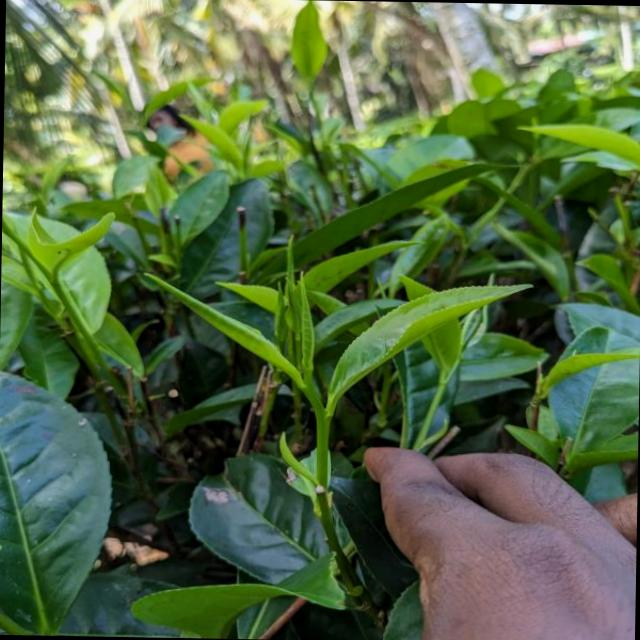Stem: (317, 411, 329, 423)
